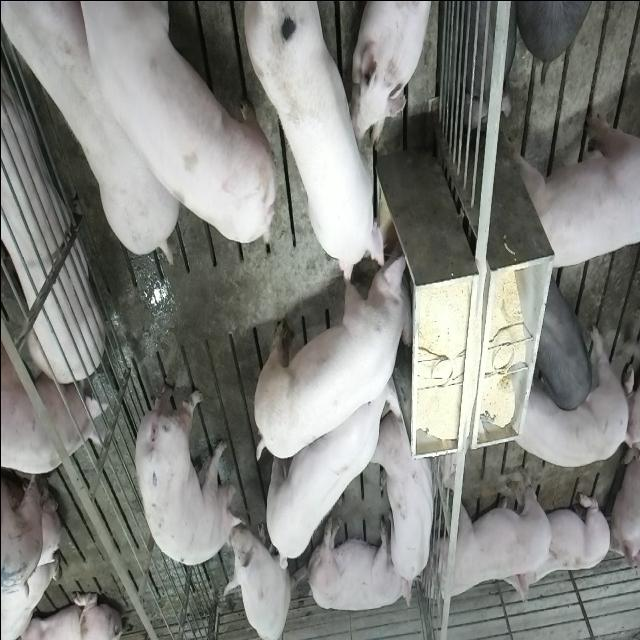Feeding: (243, 6, 397, 284), (256, 241, 420, 465)
Lateral_lying: (0, 21, 100, 387), (304, 513, 413, 613)
Sitting: (226, 508, 292, 638)
Standing: (87, 0, 280, 251), (0, 0, 176, 261), (261, 356, 397, 570), (128, 360, 239, 566), (509, 100, 638, 268), (424, 464, 556, 616), (508, 324, 630, 468), (0, 334, 101, 476), (536, 269, 596, 412)
Sternal_lying: (508, 484, 610, 608), (374, 411, 438, 597), (353, 0, 434, 146)
